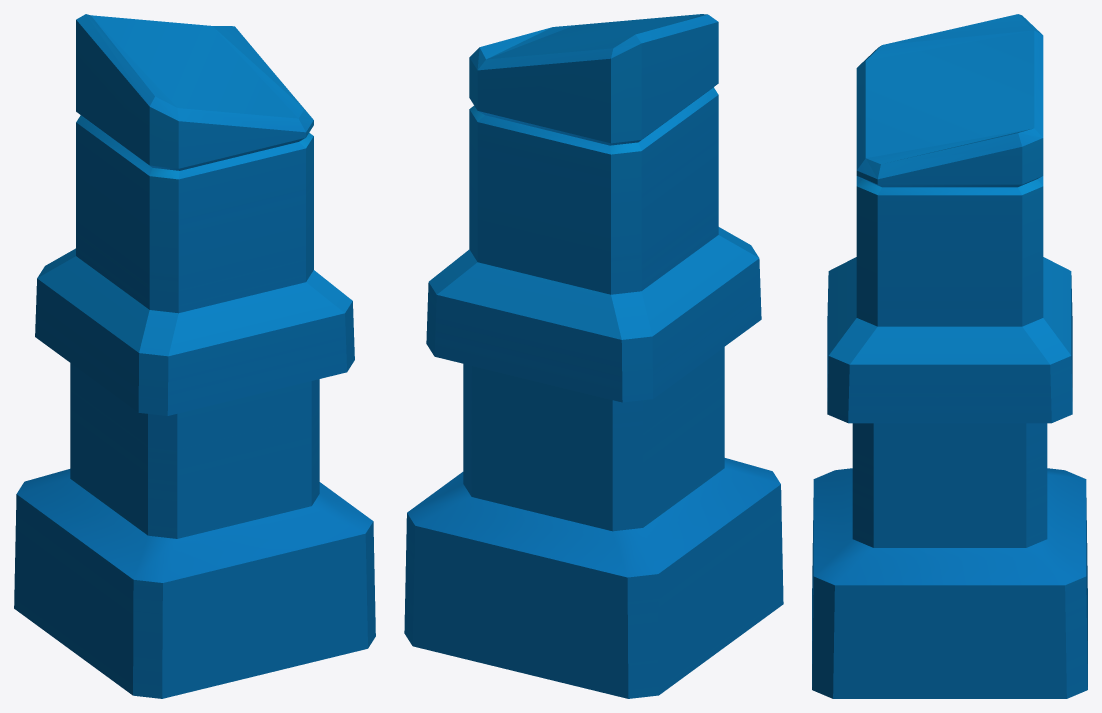
Rendered from Pillar Broken 01.fbx.
3 renders of one model, left to right at view 1: azimuth 30°, elevation 25°; view 2: azimuth 150°, elevation 25°; view 3: azimuth 270°, elevation 25°, orthographic. The views are drawn at different scales.
Visible parts, largest first — view 1: Pillar Broken 01.001; view 2: Pillar Broken 01.001; view 3: Pillar Broken 01.001.
Boxes of the visible parts, x1,y1,x2,y2 form: Pillar Broken 01.001: (14, 14, 375, 698); Pillar Broken 01.001: (404, 14, 783, 698); Pillar Broken 01.001: (812, 14, 1087, 698).
Size of the model in its own units: 71.87 by 170 by 71.89.
